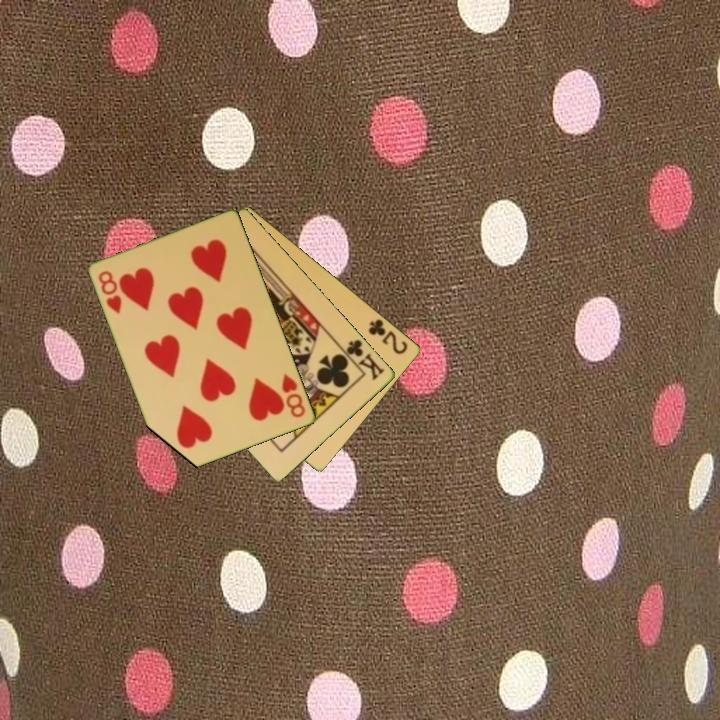2c: (365, 315, 411, 357)
8h: (278, 370, 309, 421), (95, 267, 125, 317)
Kc: (337, 336, 388, 383)
